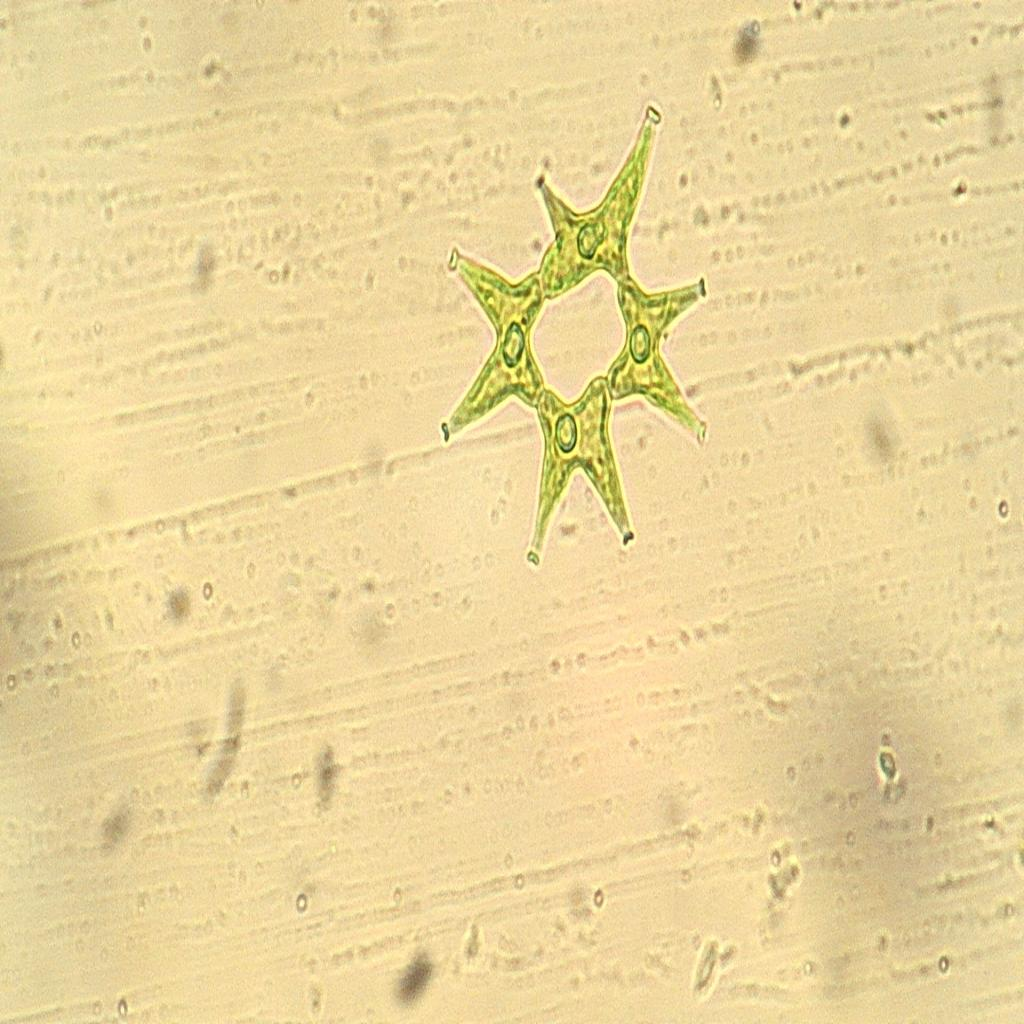Pediastrum_CO: (432, 92, 740, 608)
